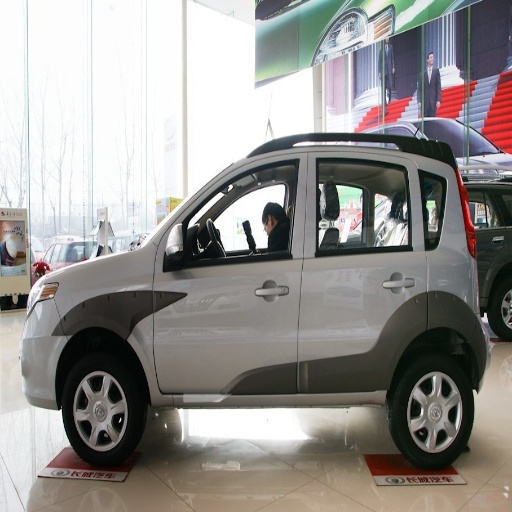back_left_door: (298, 147, 426, 397)
front_left_door: (154, 148, 309, 393)
